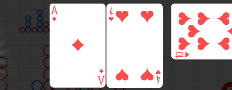10H: (175, 51, 191, 59)
4H: (108, 7, 115, 23)
AD: (51, 5, 59, 23)
